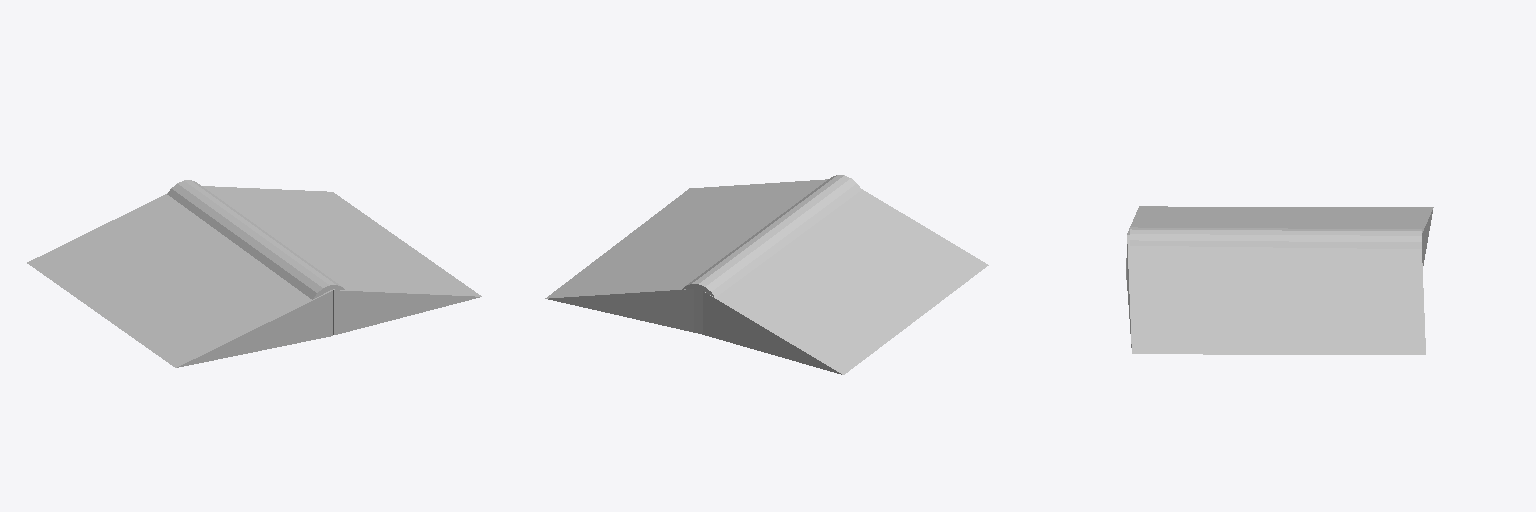
File: roof.obj
The picture shows the model from 3 angles: view 1: azimuth 30°, elevation 25°; view 2: azimuth 150°, elevation 25°; view 3: azimuth 270°, elevation 25°; orthographic projection.
Parts seen in each view (by area): view 1: obj_0; view 2: obj_0; view 3: obj_0.
Part boxes in pixels (x1,y1,x2,y2): obj_0: (27, 180, 481, 367); obj_0: (545, 175, 988, 374); obj_0: (1126, 206, 1433, 354).
Size of the model in its own units: 141 by 22.9 by 123.